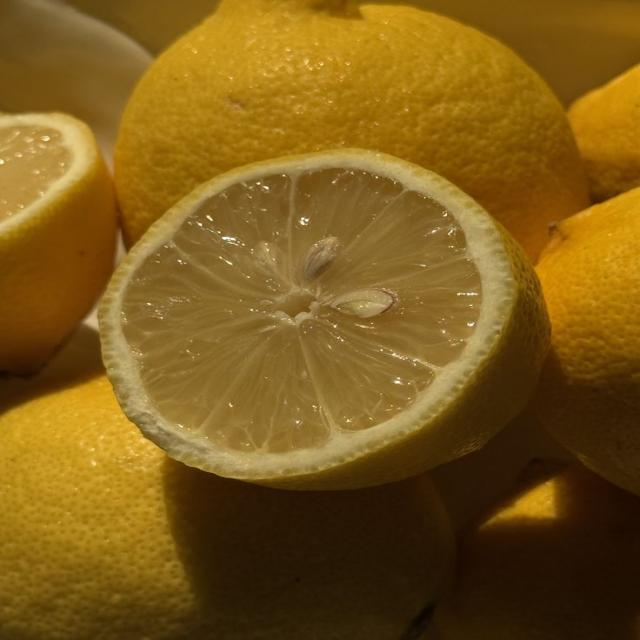lemon: (100, 150, 548, 488), (115, 0, 588, 259), (0, 374, 453, 639), (436, 466, 639, 639), (534, 188, 639, 493), (0, 113, 117, 374), (568, 65, 639, 200)
